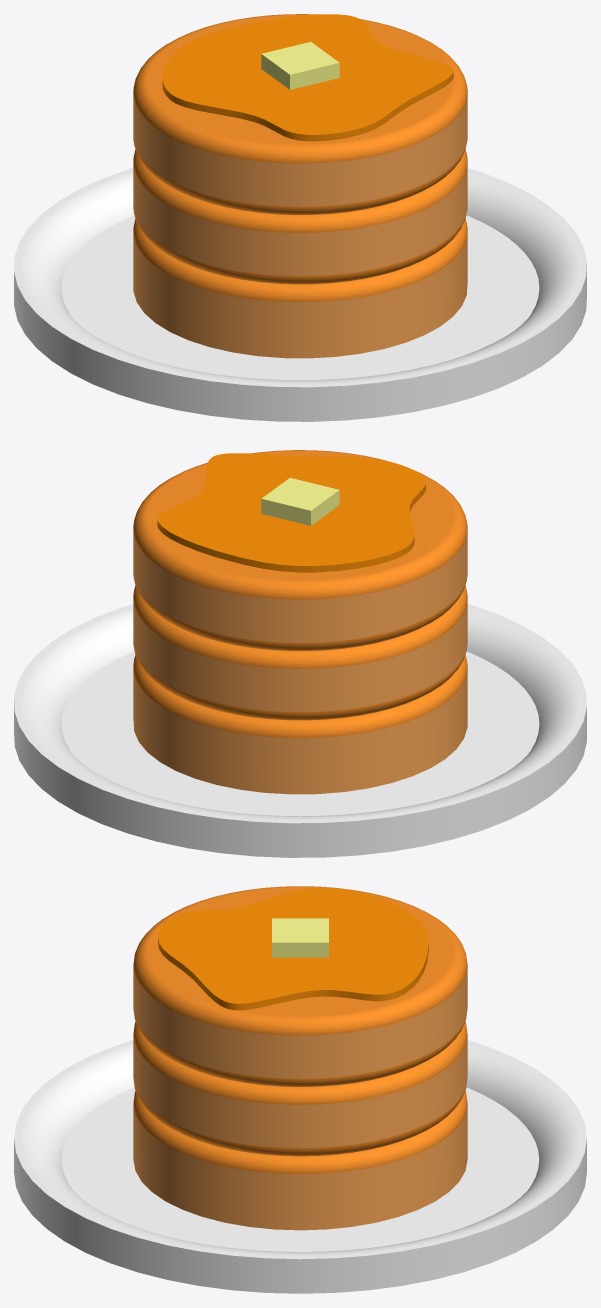
The model's file is pancake.glb.
The picture shows the model from 3 angles, top to bottom: view 1: azimuth 30°, elevation 25°; view 2: azimuth 150°, elevation 25°; view 3: azimuth 270°, elevation 25°; orthographic projection.
Visible parts, largest first — view 1: pancake; view 2: pancake; view 3: pancake.
Part boxes in pixels (left/top/right/bottom): pancake: left=14, top=14, right=586, bottom=421; pancake: left=14, top=450, right=586, bottom=857; pancake: left=14, top=886, right=586, bottom=1293.
Bounding box in the file's own units: 0.12 × 0.062 × 0.12.
